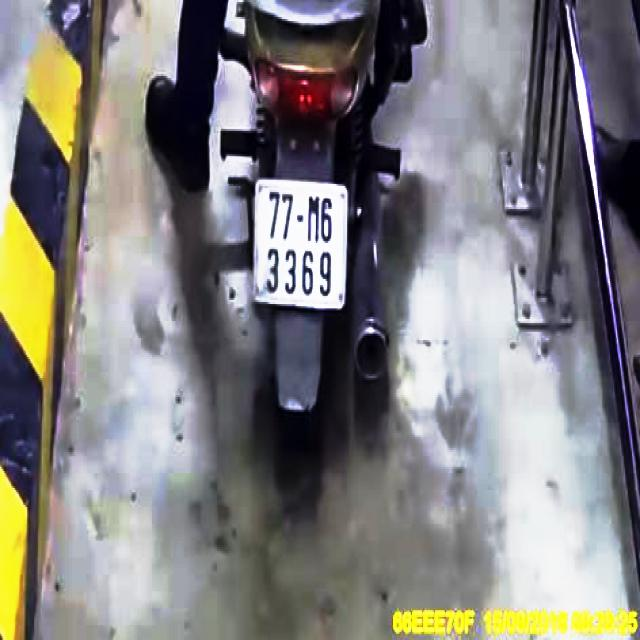license_plate: (253, 182, 349, 306)
